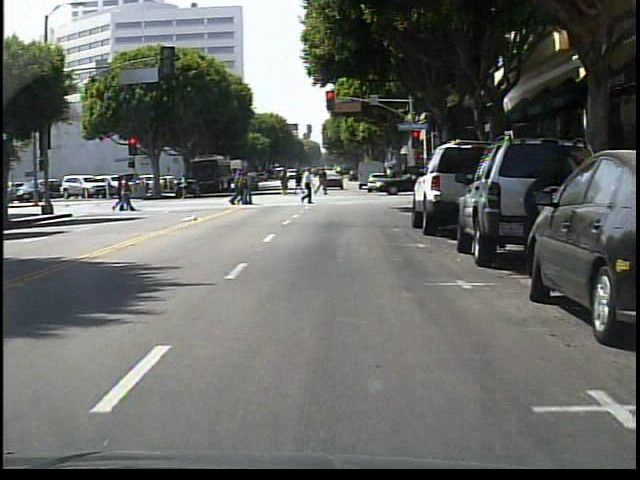person: (297, 166, 318, 206), (176, 169, 195, 199), (313, 167, 331, 196)
